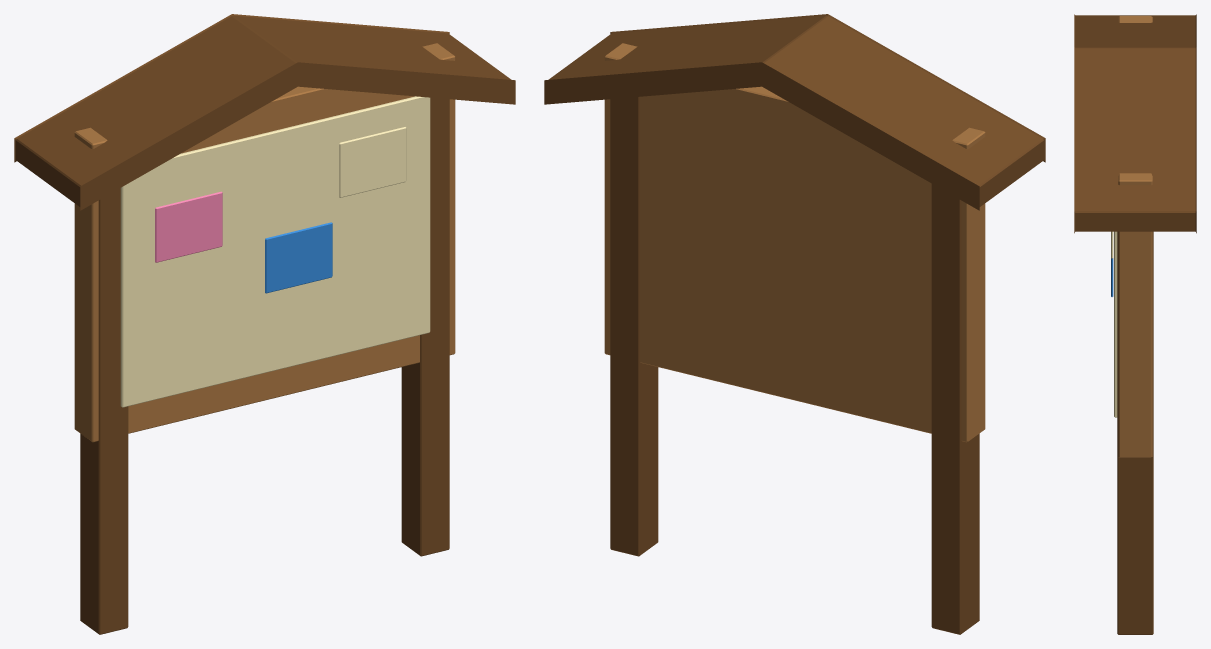
The model's file is FTF_Prop_WoodBulletinBoard_2_4m.glb.
The picture shows the model from 3 angles, left to right: view 1: azimuth 30°, elevation 25°; view 2: azimuth 150°, elevation 25°; view 3: azimuth 270°, elevation 25°; orthographic projection. The views are drawn at different scales.
Visible parts, largest first — view 1: FTF_Prop_WoodBulletinBoard_2_4m_Mesh; view 2: FTF_Prop_WoodBulletinBoard_2_4m_Mesh; view 3: FTF_Prop_WoodBulletinBoard_2_4m_Mesh.
Part boxes in pixels (box(x1,y1,x2,y2)): FTF_Prop_WoodBulletinBoard_2_4m_Mesh: box(14, 14, 515, 634); FTF_Prop_WoodBulletinBoard_2_4m_Mesh: box(544, 14, 1045, 634); FTF_Prop_WoodBulletinBoard_2_4m_Mesh: box(1074, 14, 1196, 634).
Bounding box in the file's own units: 2.06 × 2.48 × 0.54.
